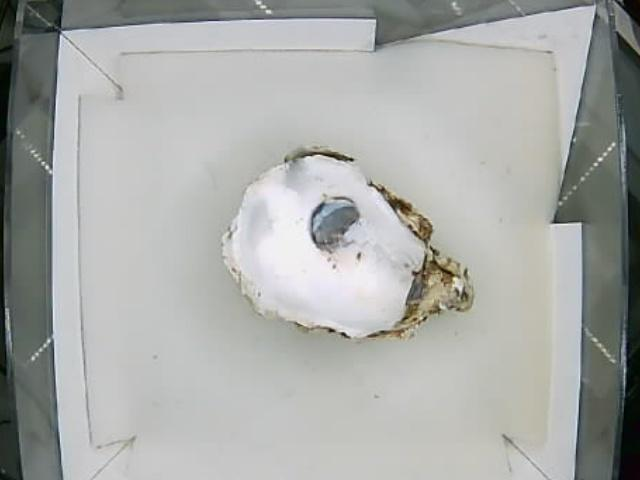Shell: (220, 145, 473, 337)
